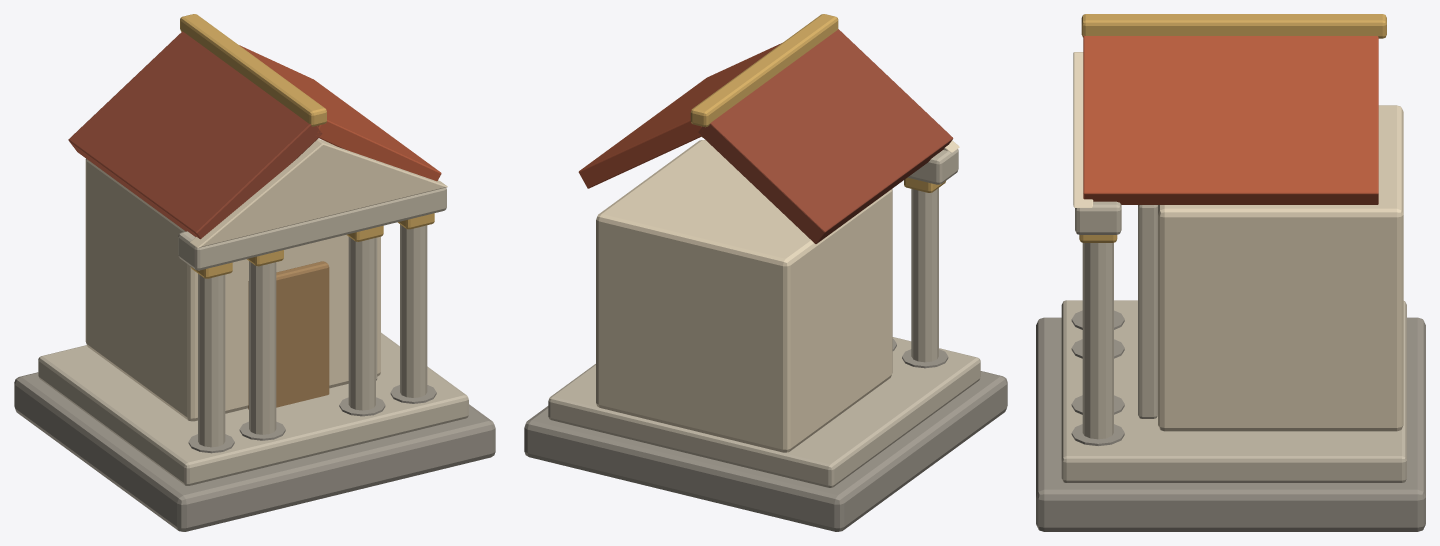
The model's file is temple.glb.
3 views of the same model, side by side, from view 1: azimuth 30°, elevation 25°; view 2: azimuth 150°, elevation 25°; view 3: azimuth 270°, elevation 25° (orthographic). The views are drawn at different scales.
Parts seen in each view (by area): view 1: TempleSanctuary_Geometry; view 2: TempleSanctuary_Geometry; view 3: TempleSanctuary_Geometry.
Part boxes in pixels (<box>): TempleSanctuary_Geometry: <box>14,14,495,531</box>; TempleSanctuary_Geometry: <box>524,14,1007,531</box>; TempleSanctuary_Geometry: <box>1036,14,1425,531</box>.
Bounding box in the file's own units: 2.55 × 2.85 × 2.35.
